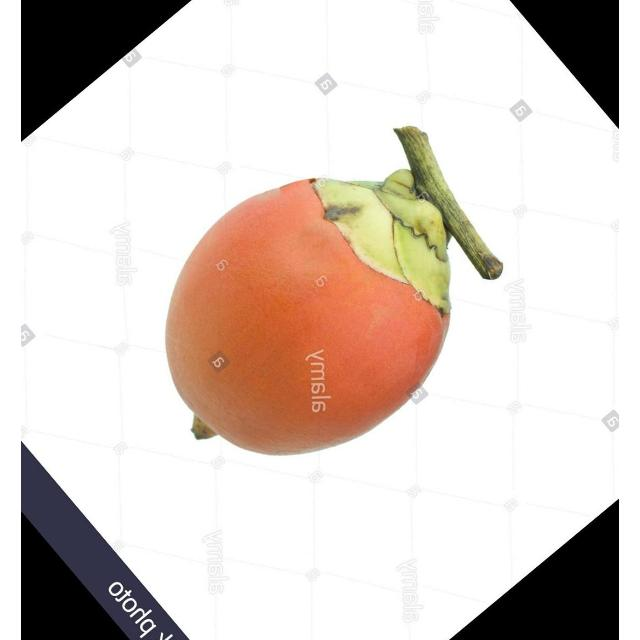good: (165, 171, 452, 458)
